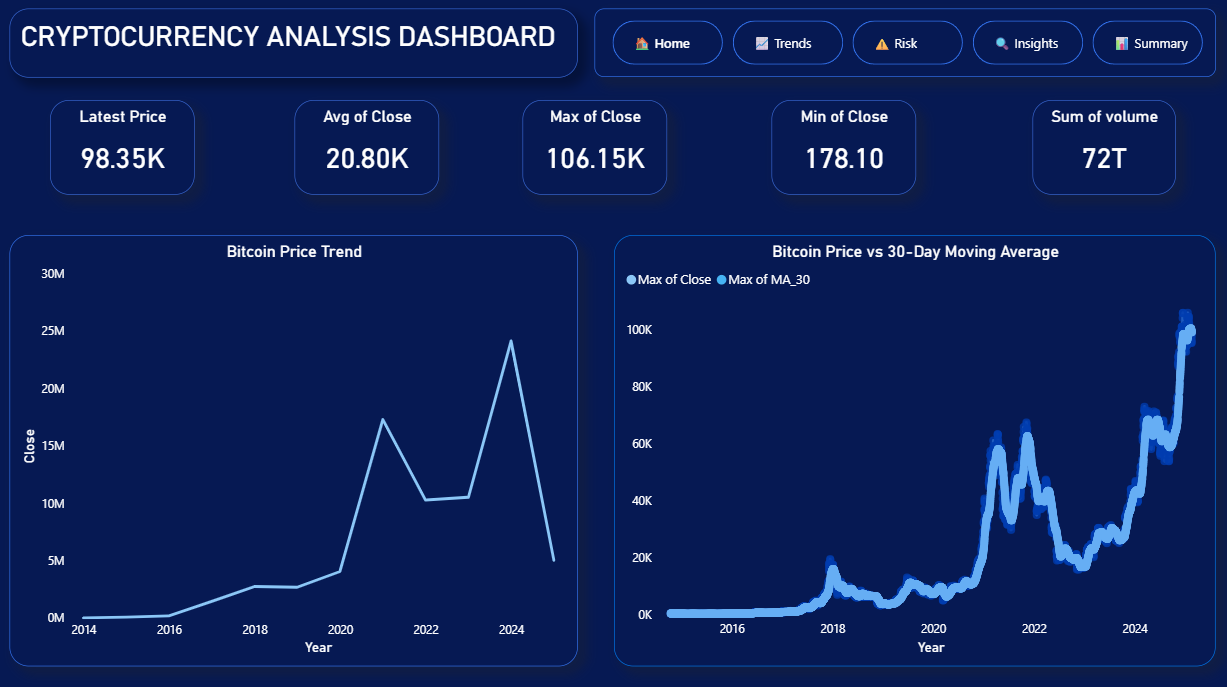

Layout of this report page (visuals, bound fields, positions):
{"tool":"powerbi","page":{"name":"🏠 Home","canvas":[1280,720],"ordinal":0},"visuals":[{"type":"textbox","box":[10.9,10.9,592.2,71.9],"z":1000},{"type":"card","title":"Latest Price","fields":{"Values":["bitcoin_final.Latest Price"]},"box":[52.4,106.3,150.8,98.4],"z":2000},{"type":"card","title":"Avg of Close","fields":{"Values":["Avg(bitcoin_final.Close)"]},"box":[307.9,106.3,150.8,98.4],"z":3000},{"type":"card","title":"Max of Close","fields":{"Values":["Max(bitcoin_final.Close)"]},"box":[546,106.3,150.8,98.4],"z":4000},{"type":"card","title":"Min of Close","fields":{"Values":["Min(bitcoin_final.Close)"]},"box":[804.8,106.3,150.8,98.4],"z":5000},{"type":"card","title":"Sum of volume","fields":{"Values":["Sum(bitcoin_final.Volume)"]},"box":[1076.2,106.3,149.2,98.4],"z":8000},{"type":"lineChart","title":"Bitcoin Price Trend","fields":{"Y":["Sum(bitcoin_final.Close)"],"Category":["bitcoin_final.Date.Variation.Date Hierarchy.Year"]},"box":[11.1,247.6,592.1,449.2],"z":9000},{"type":"lineChart","title":"Bitcoin Price vs 30-Day Moving Average ","fields":{"Y":["Max(bitcoin_final.Close)","Max(bitcoin_final.MA_30)"],"Category":["bitcoin_final.Date.Variation.Date Hierarchy.Year","bitcoin_final.Date.Variation.Date Hierarchy.Quarter","bitcoin_final.Date.Variation.Date Hierarchy.Month","bitcoin_final.Date.Variation.Date Hierarchy.Day"]},"box":[641.3,247.6,627,449],"z":10000},{"type":"shape","box":[620.6,11.1,647.6,71.4],"z":11000},{"type":"pageNavigator","box":[639.7,23.8,617.5,46],"z":12000}]}

Visuals, with their boxes in screenshot pixels (x1, y1, x2, y2), scaled from the page's 1280x720 canvas onto the 1227x687 screenshot:
textbox: Rect(10, 10, 578, 79)
"Latest Price" card: Rect(50, 101, 195, 195)
"Avg of Close" card: Rect(295, 101, 440, 195)
"Max of Close" card: Rect(523, 101, 668, 195)
"Min of Close" card: Rect(771, 101, 916, 195)
"Sum of volume" card: Rect(1032, 101, 1175, 195)
"Bitcoin Price Trend" lineChart: Rect(11, 236, 578, 665)
"Bitcoin Price vs 30-Day Moving Average " lineChart: Rect(615, 236, 1216, 665)
shape: Rect(595, 11, 1216, 79)
pageNavigator: Rect(613, 23, 1205, 67)
